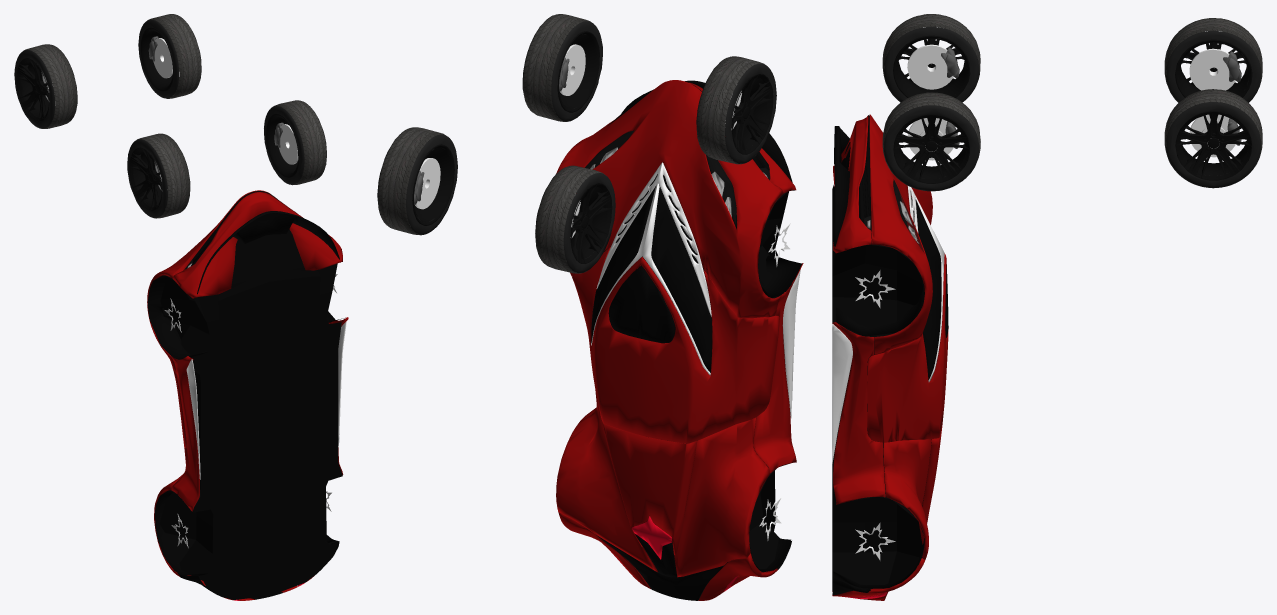
The model's file is tempest-vx-lod1.glb.
3 renders of one model, left to right at view 1: azimuth 30°, elevation 25°; view 2: azimuth 150°, elevation 25°; view 3: azimuth 270°, elevation 25°, orthographic. The views are drawn at different scales.
Visible parts, largest first — view 1: Object_7, Object_14, Object_17, Object_9, vc-wheel-part-node-0-Object_4, vc-wheel-part-node-3-Object_4, vc-wheel-part-node-1-Object_4, vc-wheel-part-node-2-Object_4, Object_19, vc-wheel-part-node-1-Object_21, vc-wheel-part-node-2-Object_21, vc-wheel-part-node-2-Object_0 (+10 smaller); view 2: Object_10, Object_15, Object_13, Object_22, Object_11, Object_7, Object_9, vc-wheel-part-node-2-Object_4, vc-wheel-part-node-1-Object_4, vc-wheel-part-node-0-Object_4, vc-wheel-part-node-3-Object_4, Object_19 (+20 smaller); view 3: Object_7, Object_10, Object_15, Object_9, Object_13, Object_14, vc-wheel-part-node-3-Object_0, vc-wheel-part-node-0-Object_0, Object_17, Object_19, vc-wheel-part-node-0-Object_21, Object_22 (+16 smaller).
Part boxes in pixels (<box>): Object_7: <box>147,229,345,599</box>; Object_14: <box>172,192,342,298</box>; Object_17: <box>178,191,339,596</box>; Object_9: <box>171,317,348,511</box>; vc-wheel-part-node-0-Object_4: <box>269,100,326,185</box>; vc-wheel-part-node-3-Object_4: <box>147,14,201,98</box>; vc-wheel-part-node-1-Object_4: <box>23,44,77,128</box>; vc-wheel-part-node-2-Object_4: <box>133,133,190,218</box>; Object_19: <box>186,321,346,479</box>; vc-wheel-part-node-1-Object_21: <box>17,59,49,120</box>; vc-wheel-part-node-2-Object_21: <box>130,148,162,210</box>; vc-wheel-part-node-2-Object_0: <box>127,139,190,218</box>; Object_10: <box>572,247,779,443</box>; Object_15: <box>556,80,783,318</box>; Object_13: <box>556,390,769,577</box>; Object_22: <box>591,186,712,372</box>; Object_11: <box>602,421,697,554</box>; Object_7: <box>585,130,802,576</box>; Object_9: <box>580,263,803,473</box>; vc-wheel-part-node-2-Object_4: <box>696,56,764,164</box>; vc-wheel-part-node-1-Object_4: <box>535,165,611,273</box>; vc-wheel-part-node-0-Object_4: <box>523,14,591,121</box>; vc-wheel-part-node-3-Object_4: <box>378,127,445,235</box>; Object_19: <box>591,183,800,418</box>; Object_7: <box>832,130,942,590</box>; Object_10: <box>867,253,948,442</box>; Object_15: <box>869,114,932,354</box>; Object_9: <box>832,322,885,504</box>; Object_13: <box>883,439,931,559</box>; Object_14: <box>833,116,871,253</box>; vc-wheel-part-node-3-Object_0: <box>1166,89,1261,188</box>; vc-wheel-part-node-0-Object_0: <box>884,92,979,191</box>; Object_17: <box>832,115,870,595</box>; Object_19: <box>832,195,944,463</box>; vc-wheel-part-node-0-Object_21: <box>894,115,969,181</box>; Object_22: <box>915,200,948,379</box>.
Size of the model in its own units: 1.96 by 5.12 by 3.75.
13 materials, 1 textured.
